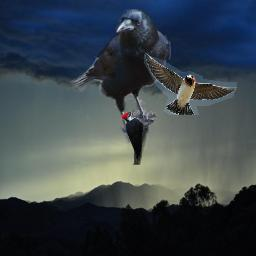Crow: (66, 3, 171, 145)
Swallow: (144, 52, 237, 115)
Woodpecker: (120, 109, 151, 165)
